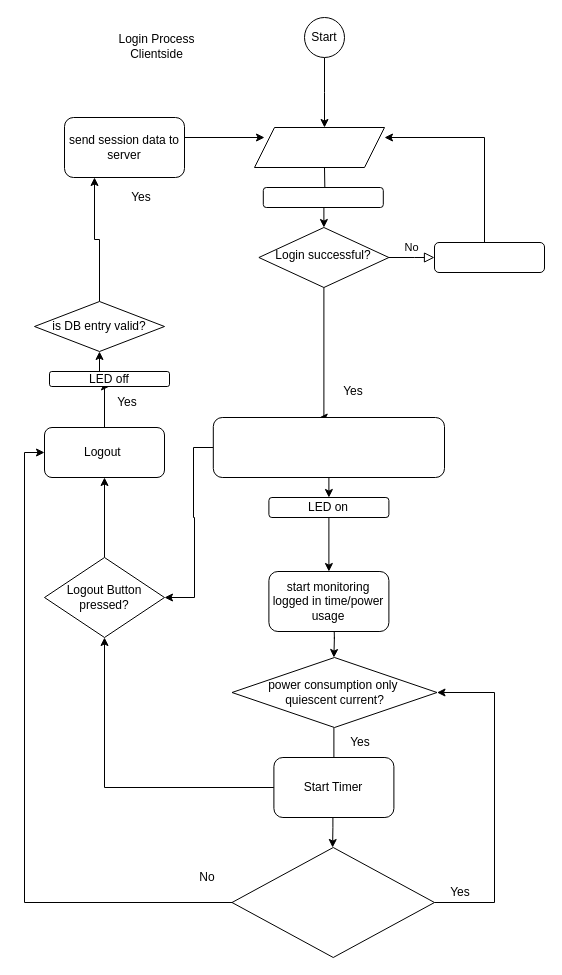
Some shapes in this 562 by 975 pixel diagram are drawn without their labels. Here are the shapes that lost their labels. From the top down, the centre of each, then its label:
At pixel 319 147: "PIN Input".
At pixel 322 197: "Message to server".
At pixel 489 257: "Error Notification".
At pixel 328 447: "Set Login Status to true, set permissions of user".
At pixel 332 902: "power consumption returning to normal workload within time period x?".
